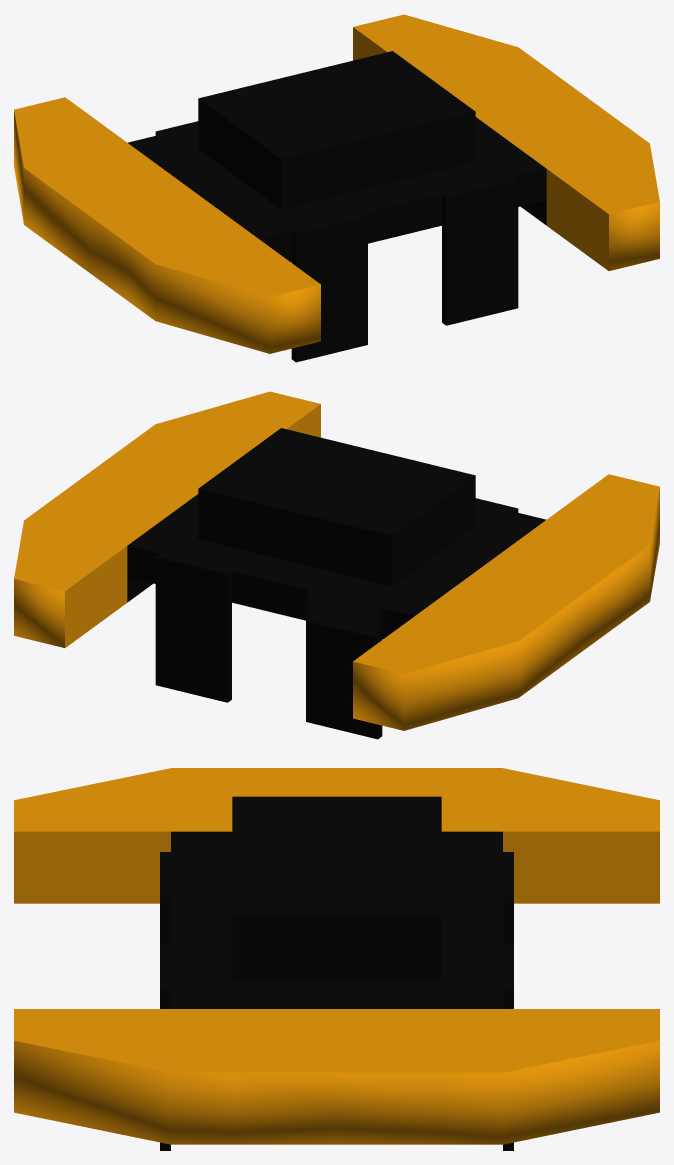
File: smartcar-hull.glb
3 views of the same model, one above another, from view 1: azimuth 30°, elevation 25°; view 2: azimuth 150°, elevation 25°; view 3: azimuth 270°, elevation 25° (orthographic). The views are drawn at different scales.
Parts seen in each view (by area): view 1: Hull; view 2: Hull; view 3: Hull.
Part boxes in pixels (x1,y1,x2,y2): Hull: (14, 14, 659, 362); Hull: (14, 391, 659, 739); Hull: (14, 768, 659, 1150).
Bounding box in the file's own units: 4.34 × 1.5 × 3.89.
